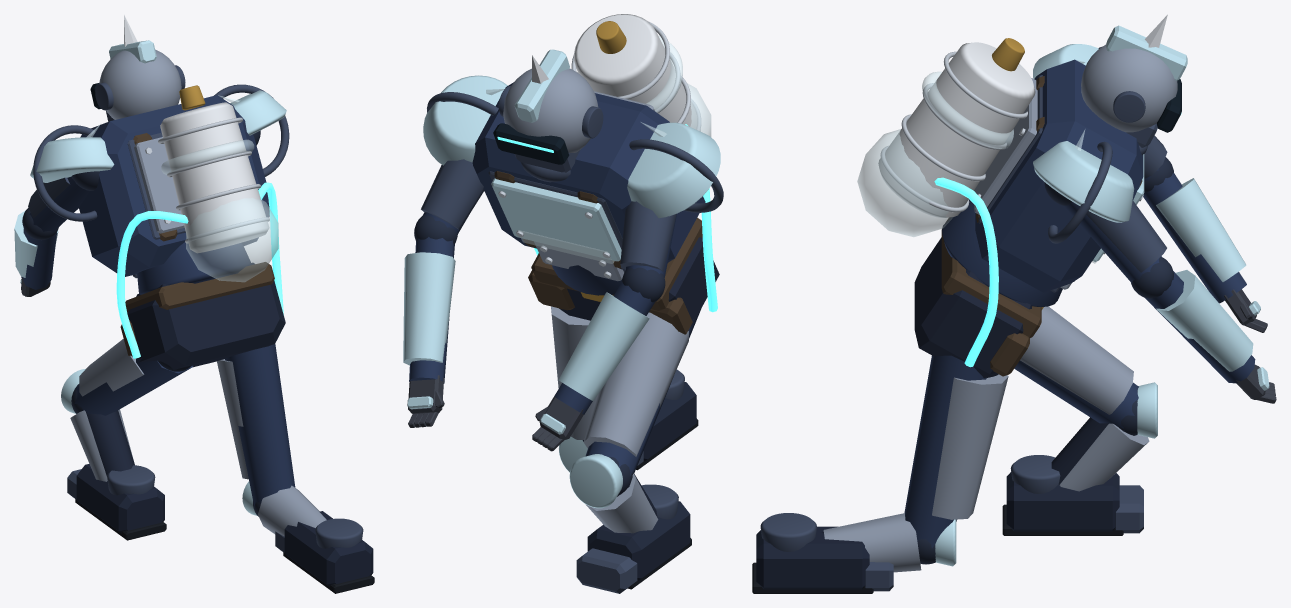
File: hero_glacier_revive.glb
3 renders of one model, left to right at view 1: azimuth 30°, elevation 25°; view 2: azimuth 150°, elevation 25°; view 3: azimuth 270°, elevation 25°, orthographic. The views are drawn at different scales.
Visible parts, largest first — view 1: hero_glacier_revive_dewar, hero_glacier_revive_chest, hero_glacier_revive_pelvis, hero_glacier_revive_thigh_r, hero_glacier_revive_dewar_frost, hero_glacier_revive_helmet, hero_glacier_revive_boot_r, hero_glacier_revive_boot_l, hero_glacier_revive_abdomen, hero_glacier_revive_belt, hero_glacier_revive_pauldron-1, hero_glacier_revive_back_plate_face (+24 smaller); view 2: hero_glacier_revive_chest, hero_glacier_revive_thigh_plate_l, hero_glacier_revive_dewar, hero_glacier_revive_chest_plate_face, hero_glacier_revive_pauldron-1, hero_glacier_revive_bracer_r, hero_glacier_revive_bracer_l, hero_glacier_revive_helmet, hero_glacier_revive_pauldron1, hero_glacier_revive_boot_l, hero_glacier_revive_bicep_plate_l, hero_glacier_revive_bicep_plate_r (+34 smaller); view 3: hero_glacier_revive_chest, hero_glacier_revive_dewar, hero_glacier_revive_thigh_plate_r, hero_glacier_revive_pelvis, hero_glacier_revive_thigh_plate_l, hero_glacier_revive_dewar_frost, hero_glacier_revive_thigh_r, hero_glacier_revive_helmet, hero_glacier_revive_boot_r, hero_glacier_revive_boot_l, hero_glacier_revive_pauldron1, hero_glacier_revive_bracer_r (+29 smaller).
Boxes of the visible parts, box(x1,y1,x2,y2) form: hero_glacier_revive_dewar: box(160, 102, 269, 253); hero_glacier_revive_chest: box(79, 95, 269, 276); hero_glacier_revive_pelvis: box(127, 262, 285, 369); hero_glacier_revive_thigh_r: box(225, 344, 295, 507); hero_glacier_revive_dewar_frost: box(186, 198, 278, 282); hero_glacier_revive_helmet: box(99, 49, 181, 119); hero_glacier_revive_boot_r: box(284, 511, 373, 586); hero_glacier_revive_boot_l: box(76, 464, 164, 533); hero_glacier_revive_abdomen: box(137, 242, 251, 294); hero_glacier_revive_belt: box(125, 262, 274, 312); hero_glacier_revive_pauldron-1: box(30, 137, 114, 182); hero_glacier_revive_back_plate_face: box(134, 137, 184, 233); hero_glacier_revive_chest: box(472, 82, 705, 269); hero_glacier_revive_thigh_plate_l: box(583, 312, 688, 456); hero_glacier_revive_dewar: box(574, 14, 700, 130); hero_glacier_revive_chest_plate_face: box(491, 178, 621, 261); hero_glacier_revive_pauldron-1: box(627, 122, 720, 218); hero_glacier_revive_bracer_r: box(403, 252, 455, 365); hero_glacier_revive_bracer_l: box(558, 292, 649, 400); hero_glacier_revive_helmet: box(503, 68, 598, 152); hero_glacier_revive_pauldron1: box(423, 75, 507, 165); hero_glacier_revive_boot_l: box(587, 501, 690, 580); hero_glacier_revive_bicep_plate_l: box(620, 201, 676, 271); hero_glacier_revive_bicep_plate_r: box(421, 159, 484, 230); hero_glacier_revive_chest: box(975, 59, 1143, 292); hero_glacier_revive_dewar: box(878, 42, 1035, 217); hero_glacier_revive_thigh_plate_r: box(932, 374, 1008, 519); hero_glacier_revive_pelvis: box(914, 237, 1031, 378); hero_glacier_revive_thigh_plate_l: box(1020, 306, 1133, 414); hero_glacier_revive_dewar_frost: box(857, 129, 953, 236); hero_glacier_revive_thigh_r: box(904, 355, 986, 548); hero_glacier_revive_helmet: box(1081, 44, 1177, 132); hero_glacier_revive_boot_r: box(756, 526, 869, 589); hero_glacier_revive_boot_l: box(1006, 472, 1119, 531); hero_glacier_revive_pauldron1: box(1033, 141, 1134, 222); hero_glacier_revive_bracer_r: box(1156, 270, 1253, 371).
Bounding box in the file's own units: 0.8436 × 1.48 × 1.3.
